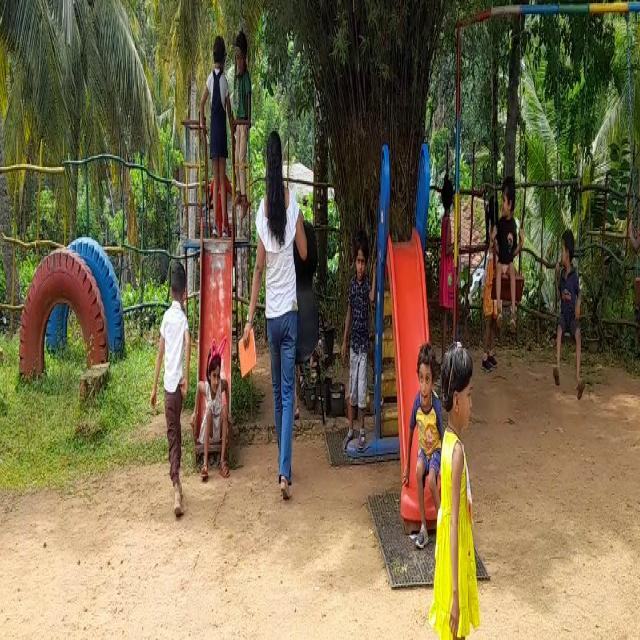adult: (248, 115, 308, 498)
child: (432, 331, 481, 640), (152, 255, 191, 493), (340, 225, 374, 438), (550, 211, 585, 402), (225, 6, 252, 222), (203, 28, 230, 240), (491, 163, 524, 329), (414, 332, 440, 542), (197, 336, 224, 466), (628, 147, 640, 359)
